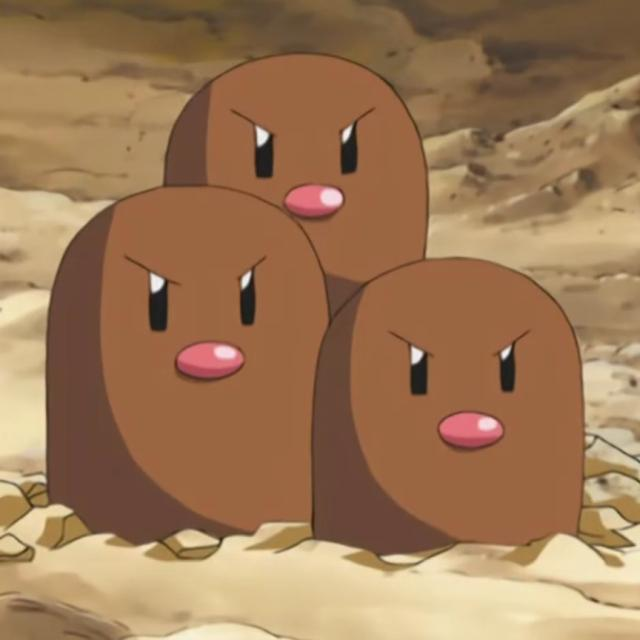Dugtrio: (56, 42, 585, 560)
